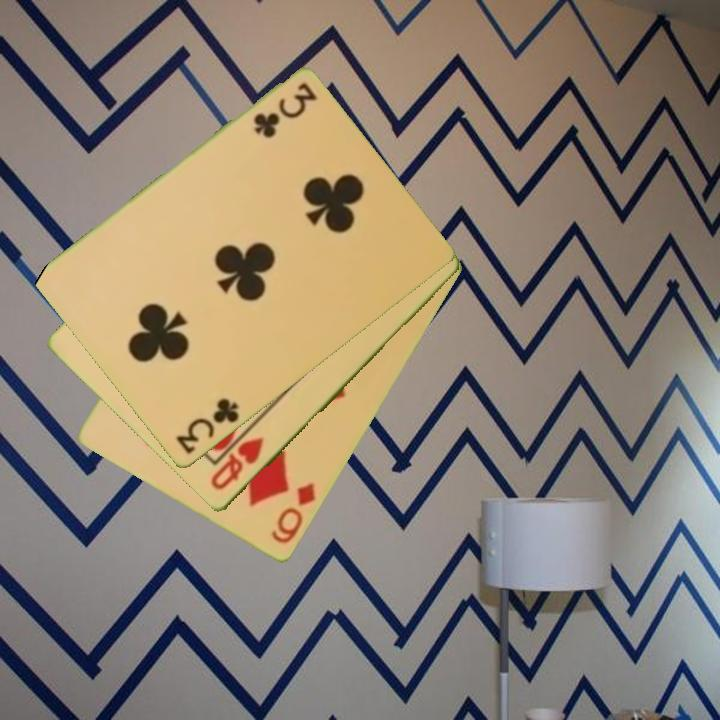3c: (172, 394, 242, 458), (250, 79, 320, 141)
6d: (268, 479, 319, 548)
Qh: (206, 434, 267, 494)
